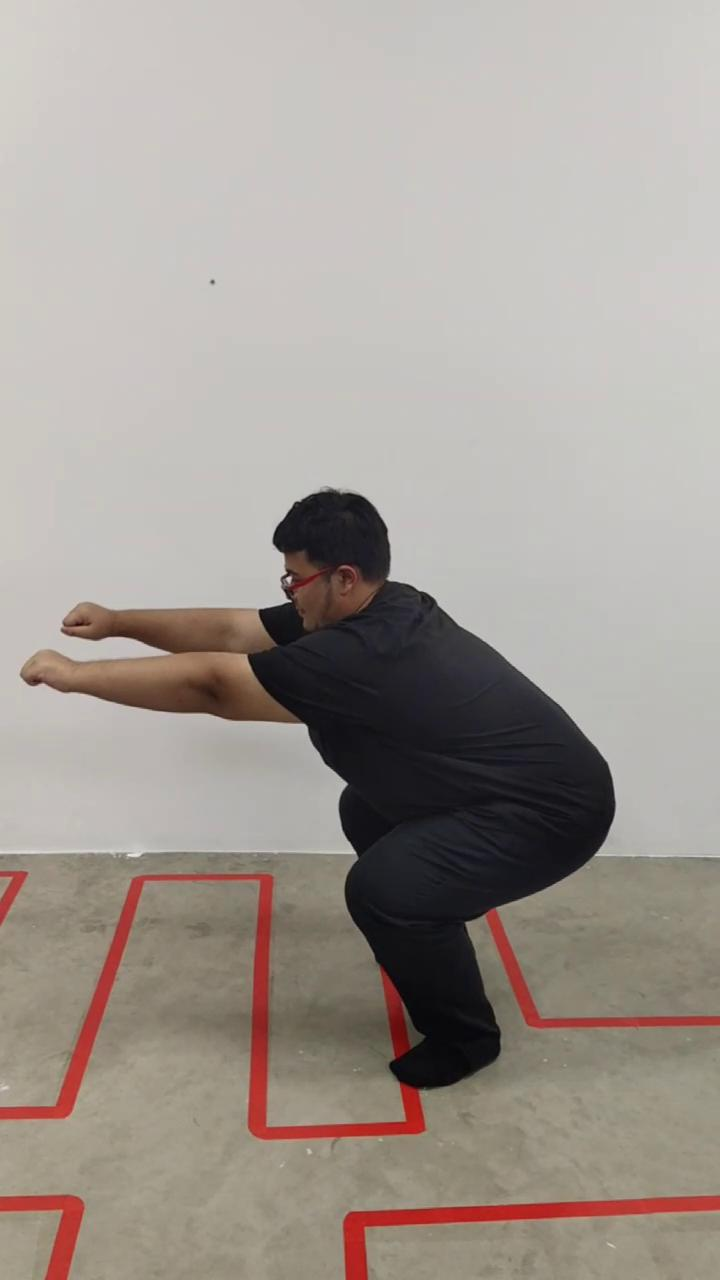squat down: (28, 490, 615, 1089)
